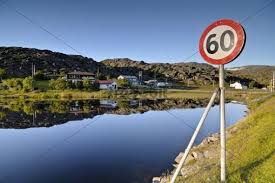Speed_limit_60km: (198, 18, 246, 65)
